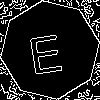E: (25, 25, 65, 75)
